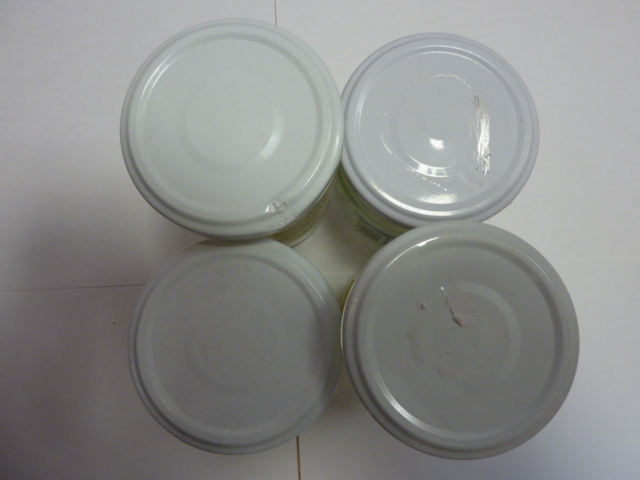damaged: (339, 29, 540, 220)
intact: (347, 222, 580, 459)
